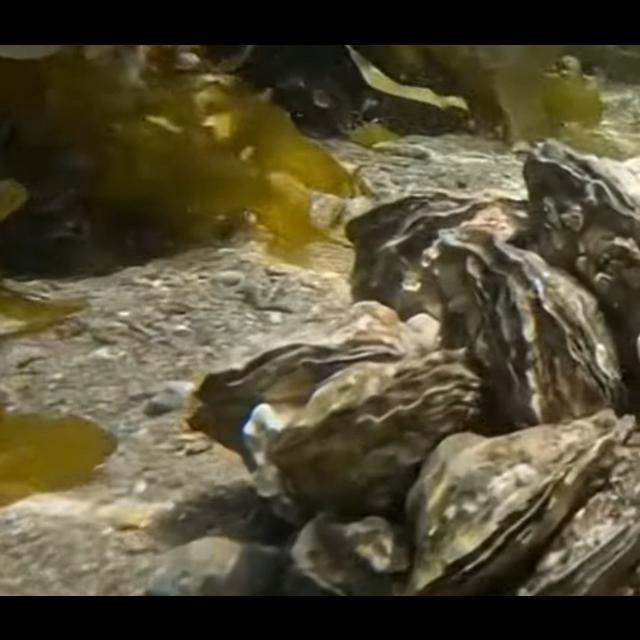Oyster-Closed: (242, 344, 483, 511), (462, 228, 622, 426)
Oyster-Open: (401, 410, 635, 596), (185, 332, 402, 472), (342, 190, 534, 320), (511, 135, 640, 321), (517, 483, 640, 595)
